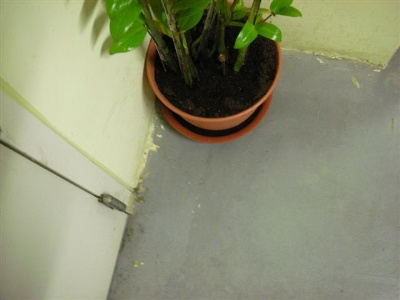plate: (158, 92, 275, 143)
